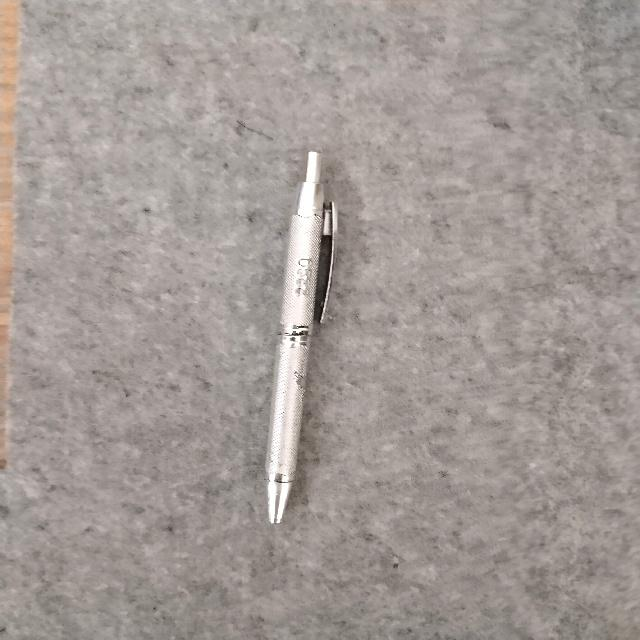signature pen: (266, 152, 336, 522)
